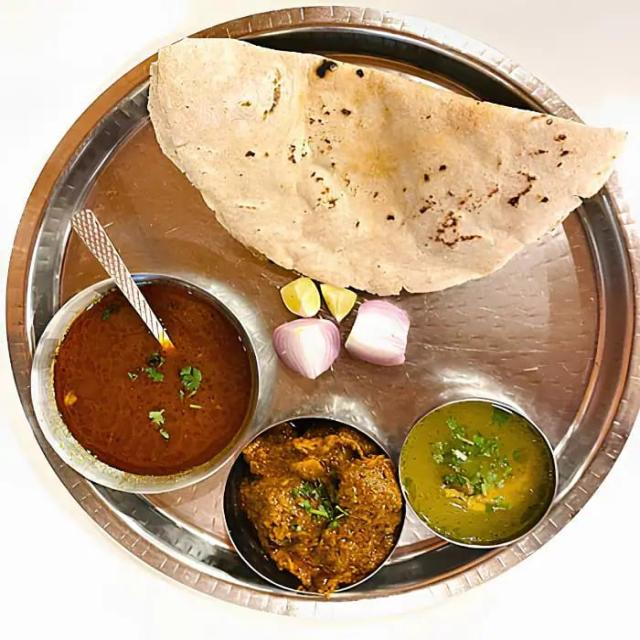chapathi: (128, 28, 639, 303)
